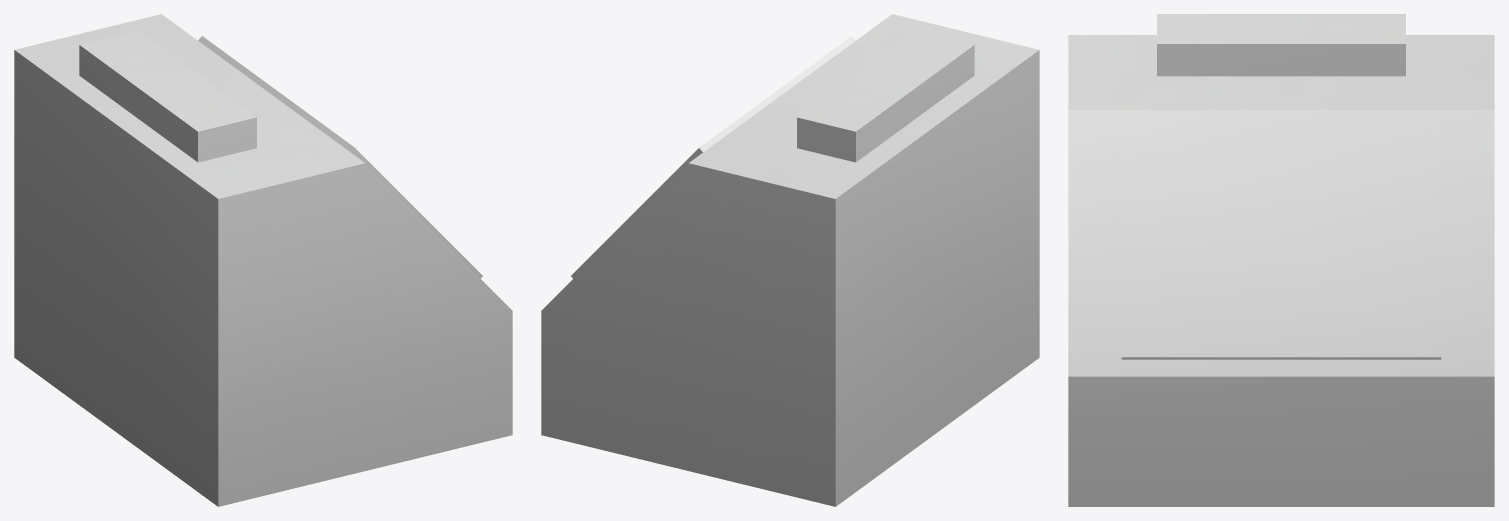
File: IceMachine.fbx
3 views of the same model, side by side, from view 1: azimuth 30°, elevation 25°; view 2: azimuth 150°, elevation 25°; view 3: azimuth 270°, elevation 25° (orthographic). The views are drawn at different scales.
Parts seen in each view (by area): view 1: Cube; view 2: Cube; view 3: Cube.
Boxes of the visible parts, x1,y1,x2,y2 form: Cube: [14, 14, 512, 506]; Cube: [541, 14, 1039, 506]; Cube: [1068, 14, 1494, 506].
Bounding box in the file's own units: 200 × 220 × 240.
